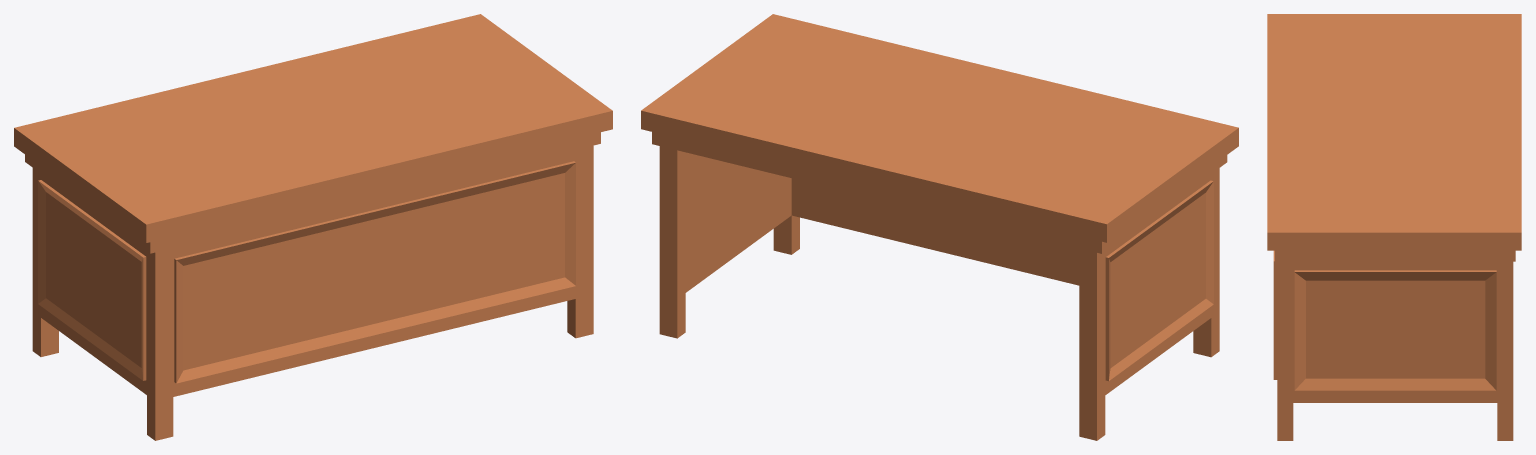
Rendered from DESK.fbx.
3 renders of one model, left to right at view 1: azimuth 30°, elevation 25°; view 2: azimuth 150°, elevation 25°; view 3: azimuth 270°, elevation 25°, orthographic. The views are drawn at different scales.
Visible parts, largest first — view 1: Desk; view 2: Desk; view 3: Desk.
Part boxes in pixels (x1,y1,x2,y2): Desk: (14, 14, 612, 440); Desk: (641, 14, 1238, 440); Desk: (1267, 14, 1521, 440).
Size of the model in its own units: 8.87 by 4.06 by 4.35.
